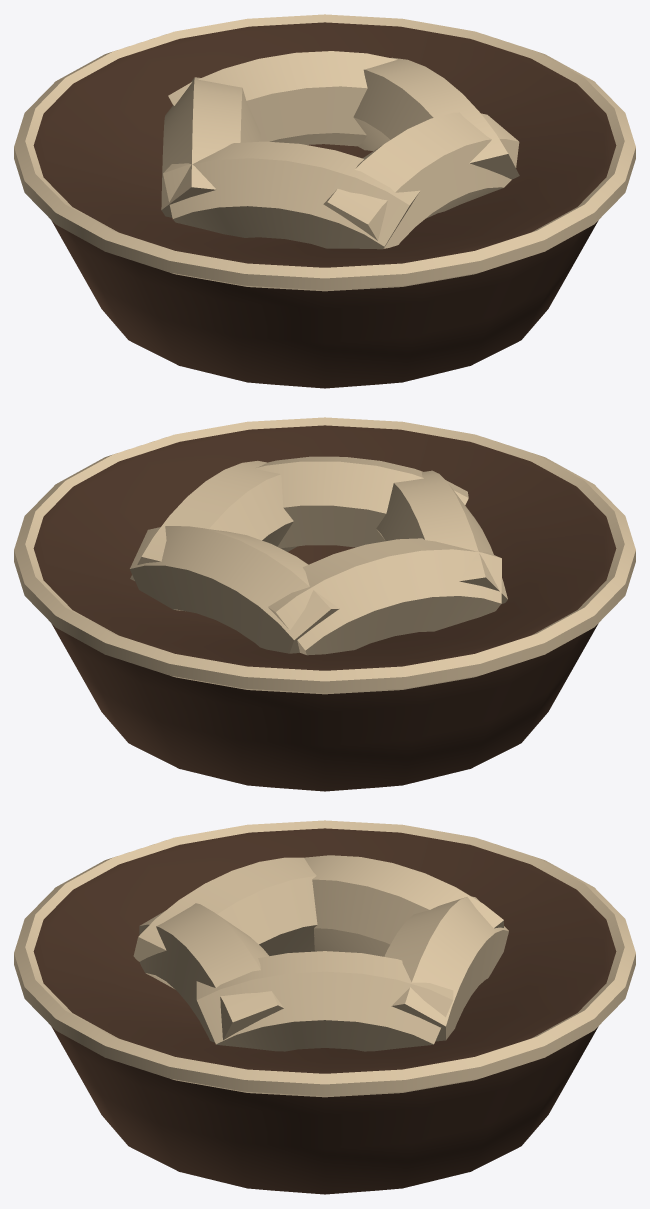
Rendered from croissant_basket.glb.
3 views of the same model, one above another, from view 1: azimuth 30°, elevation 25°; view 2: azimuth 150°, elevation 25°; view 3: azimuth 270°, elevation 25° (orthographic).
Visible parts, largest first — view 1: croissant_basket; view 2: croissant_basket; view 3: croissant_basket.
Part boxes in pixels (box(x1,y1,x2,y2)): croissant_basket: box(14, 14, 635, 388); croissant_basket: box(14, 417, 635, 791); croissant_basket: box(14, 820, 635, 1194).
Bounding box in the file's own units: 0.3839 × 0.1497 × 0.3839.
